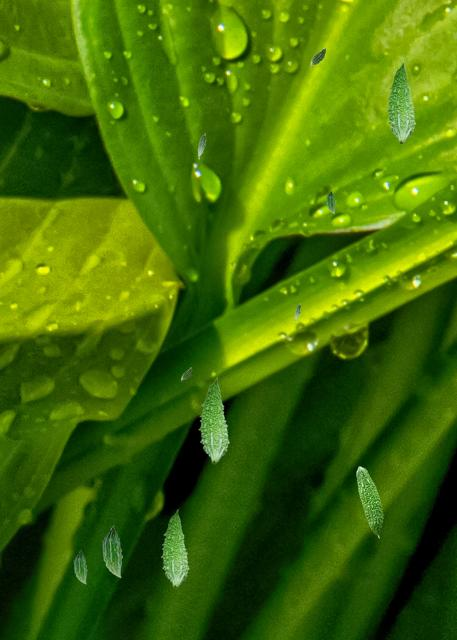ampalaya: (198, 377, 230, 464), (385, 61, 416, 144), (160, 508, 189, 588), (356, 466, 384, 538), (101, 525, 123, 578), (73, 549, 87, 584), (309, 47, 326, 67), (197, 132, 206, 159), (326, 190, 336, 214), (180, 367, 192, 381), (294, 302, 301, 322)
